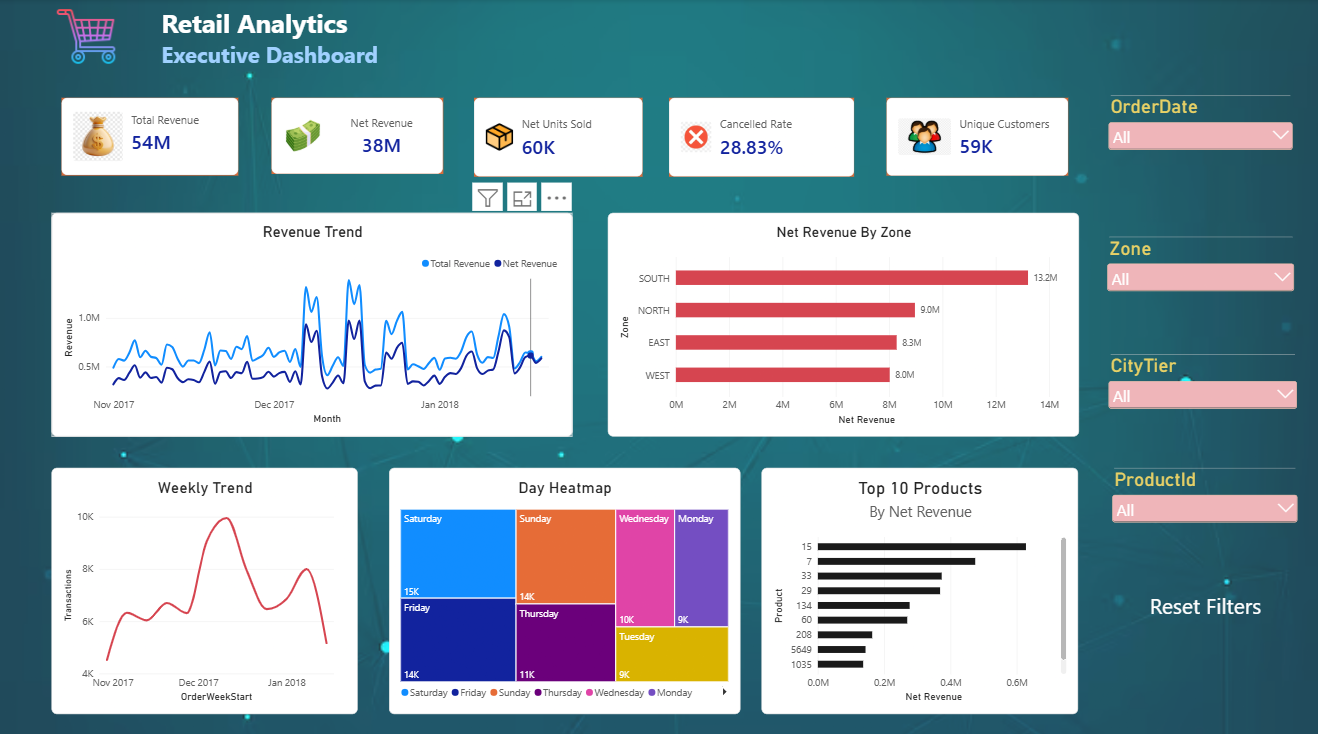

The dashboard page shown, as its layout file describes it:
{"tool":"powerbi","page":{"name":"Executive Dashboard","canvas":[1920,1080],"ordinal":5},"visuals":[{"type":"image","box":[76.1,8.7,100,90],"z":0},{"type":"textbox","box":[234.8,8.7,697.8,110.9],"z":1000},{"type":"slicer","fields":{"Values":["Sales Raw.OrderDate"]},"box":[1602.2,139.1,276.1,187],"z":2000},{"type":"slicer","fields":{"Values":["PinCode-Geo.Zone"]},"box":[1600,343.5,280.4,128.3],"z":3000},{"type":"slicer","fields":{"Values":["ProductMap.ProductId"]},"box":[1607.6,679.2,277.9,129.7],"z":4000},{"type":"slicer","fields":{"Values":["CityTier.CityTier"]},"box":[1602.2,513,282.6,145.7],"z":5000},{"type":"cardVisual","fields":{"Data":["Sales Raw.Total Revenue"]},"box":[90,142.5,256.2,112.5],"z":6000},{"type":"cardVisual","fields":{"Data":["Sales Raw.Net Revenue"]},"box":[395,142.5,248.8,110],"z":7000},{"type":"cardVisual","fields":{"Data":["Sales Raw.Net Units Sold"]},"box":[687.5,142.5,244,114],"z":8000},{"type":"cardVisual","fields":{"Data":["Sales Raw.Cancelled Rate"]},"box":[970,142.5,268,114],"z":9000},{"type":"cardVisual","fields":{"Data":["Sales Raw.Unique Customers"]},"box":[1284.6,142.3,263,113],"z":10000},{"type":"lineChart","title":"Revenue Trend","fields":{"Category":["Sales Raw.OrderDate"],"Y":["Sales Raw.Total Revenue","Sales Raw.Net Revenue"]},"box":[76.1,308.7,754.3,323.9],"z":11000},{"type":"barChart","title":"Net Revenue By Zone","fields":{"Category":["PinCode-Geo.Zone"],"Y":["Sales Raw.Net Revenue"]},"box":[880.4,308.7,682.6,323.9],"z":12000},{"type":"clusteredBarChart","title":"Top 10 Products","fields":{"Category":["ProductMap.ProductId"],"Y":["Sales Raw.Net Revenue"]},"box":[1104.3,678.3,458.7,356.5],"z":13000},{"type":"lineChart","title":"Weekly Trend","fields":{"Category":["Sales Raw.OrderWeekStart"],"Y":["Sales Raw.Total Transactions"]},"box":[76,678.6,443.4,356.5],"z":14000},{"type":"treemap","title":"Day Heatmap","fields":{"Group":["Sales Raw.OrderDayOfWeek"],"Values":["Sales Raw.Total Transactions"]},"box":[564.6,678.6,508.5,356.5],"z":15000},{"type":"actionButton","box":[1615.8,831.6,261.4,92.6],"z":16000}]}

Visuals, with their boxes in screenshot pixels (x1, y1, x2, y2), scaled from the page's 1920x1080 canvas onto the 1318x734 screenshot:
image: rect(52, 6, 121, 67)
textbox: rect(161, 6, 640, 81)
slicer - Sales Raw.OrderDate: rect(1100, 95, 1289, 222)
slicer - PinCode-Geo.Zone: rect(1098, 233, 1291, 321)
slicer - ProductMap.ProductId: rect(1104, 462, 1294, 550)
slicer - CityTier.CityTier: rect(1100, 349, 1294, 448)
cardVisual - Sales Raw.Total Revenue: rect(62, 97, 238, 173)
cardVisual - Sales Raw.Net Revenue: rect(271, 97, 442, 172)
cardVisual - Sales Raw.Net Units Sold: rect(472, 97, 639, 174)
cardVisual - Sales Raw.Cancelled Rate: rect(666, 97, 850, 174)
cardVisual - Sales Raw.Unique Customers: rect(882, 97, 1062, 174)
"Revenue Trend" lineChart: rect(52, 210, 570, 430)
"Net Revenue By Zone" barChart: rect(604, 210, 1073, 430)
"Top 10 Products" clusteredBarChart: rect(758, 461, 1073, 703)
"Weekly Trend" lineChart: rect(52, 461, 357, 703)
"Day Heatmap" treemap: rect(388, 461, 737, 703)
actionButton: rect(1109, 565, 1289, 628)
